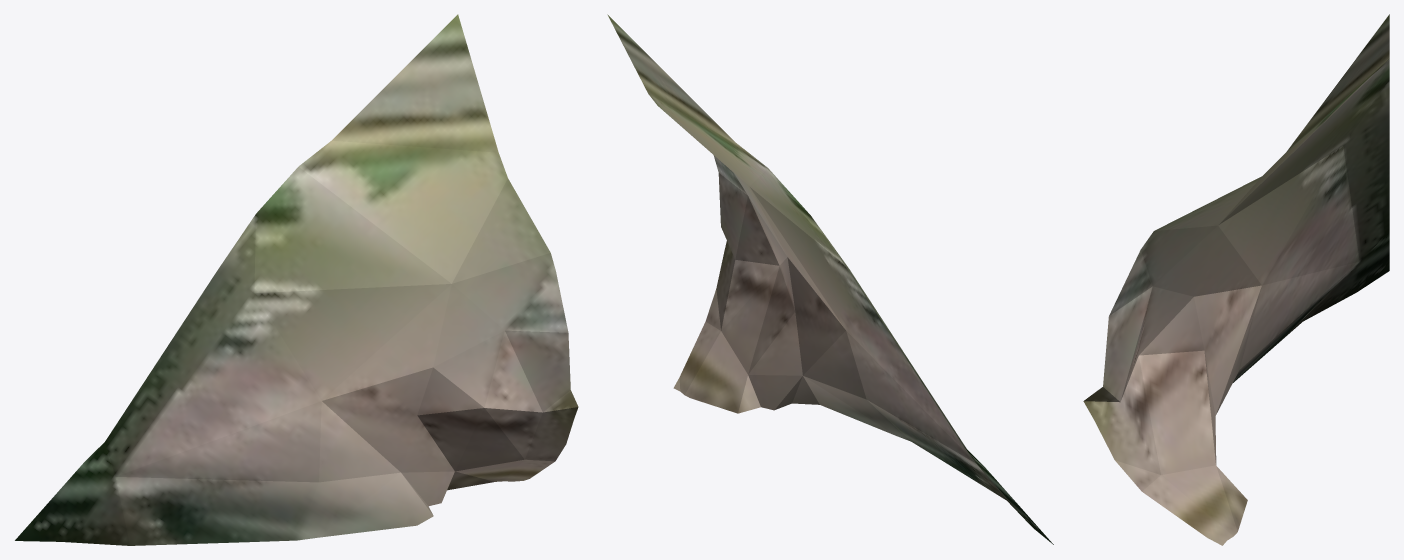
3 views of the same model, side by side, from view 1: azimuth 30°, elevation 25°; view 2: azimuth 150°, elevation 25°; view 3: azimuth 270°, elevation 25° (orthographic). The views are drawn at different scales.
Size of the model in its own units: 1.46 by 1.32 by 0.6888.
Materials: 1 (1 with a texture image).
